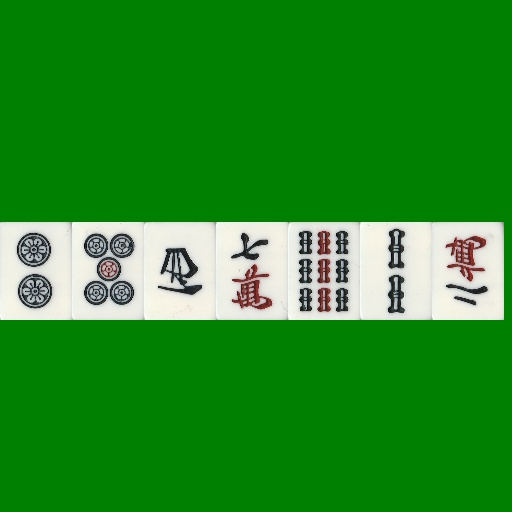2m: (432, 222, 504, 320)
2p: (0, 222, 72, 320)
2s: (360, 222, 432, 320)
5p: (72, 222, 144, 320)
7m: (216, 222, 288, 320)
9s: (288, 222, 360, 320)
west: (144, 222, 216, 320)
